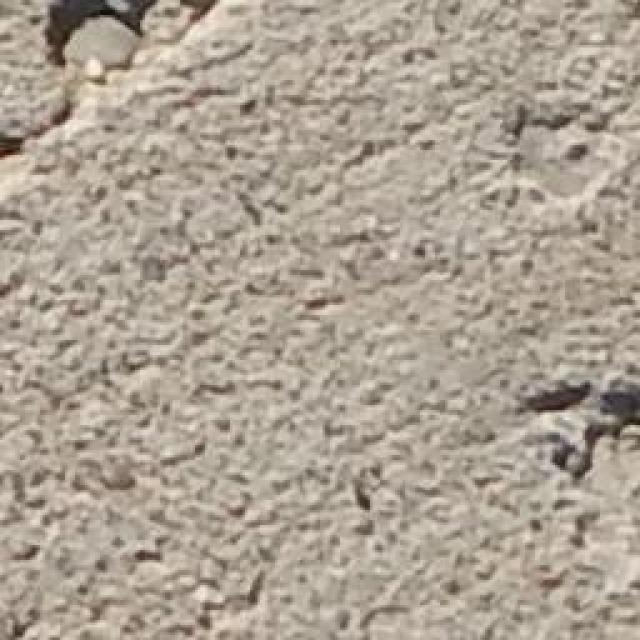concrete-crack: (0, 0, 229, 168), (577, 379, 640, 481), (516, 374, 602, 423)
